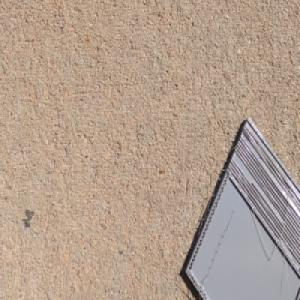PlasticPart: (182, 113, 300, 300)
